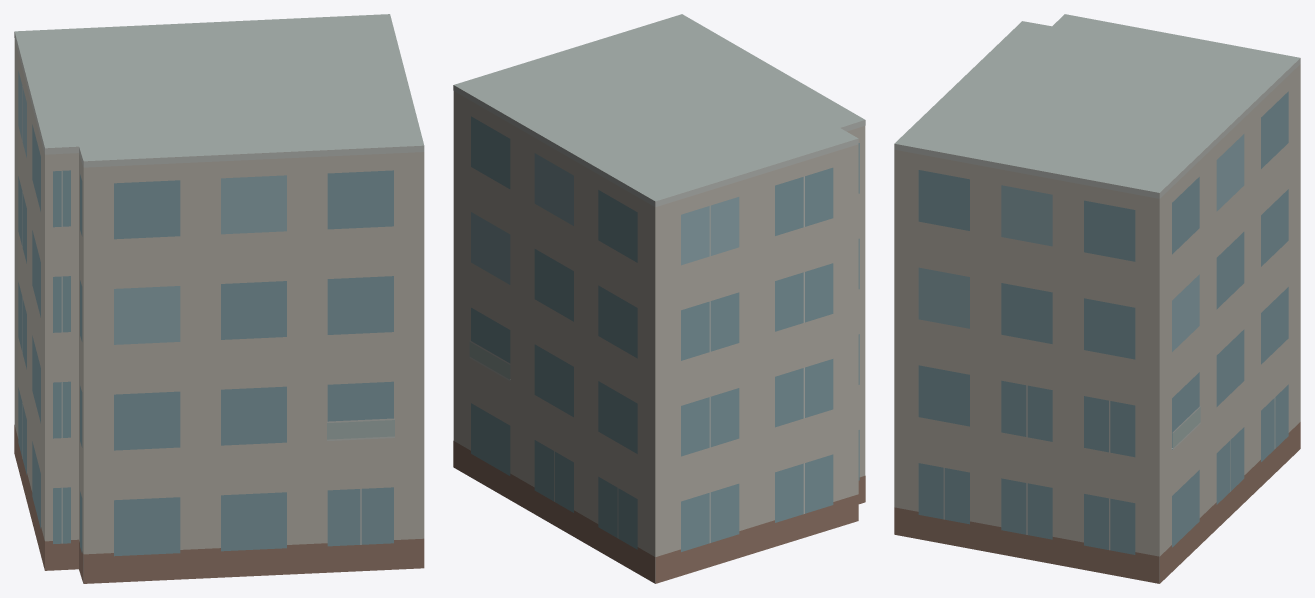
The model's file is survey-upis-32532906.glb.
3 views of the same model, side by side, from view 1: azimuth 30°, elevation 25°; view 2: azimuth 150°, elevation 25°; view 3: azimuth 270°, elevation 25° (orthographic). The views are drawn at different scales.
Parts seen in each view (by area): view 1: survey-upis-32532906.tmp; view 2: survey-upis-32532906.tmp; view 3: survey-upis-32532906.tmp.
Boxes of the visible parts, box(x1,y1,x2,y2) form: survey-upis-32532906.tmp: box(14, 14, 424, 583); survey-upis-32532906.tmp: box(453, 14, 865, 583); survey-upis-32532906.tmp: box(894, 14, 1300, 583).
Size of the model in its own units: 15.81 by 16.1 by 15.18.
